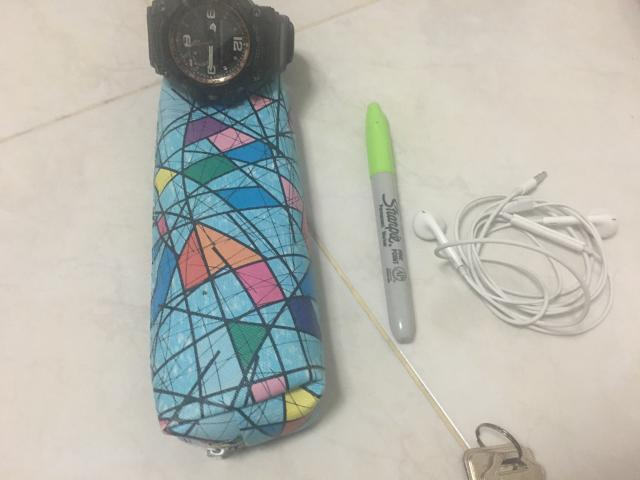Keys: (464, 424, 545, 480)
Pen: (365, 102, 415, 342)
Watch: (148, 0, 294, 106)
wire: (412, 171, 619, 335)
